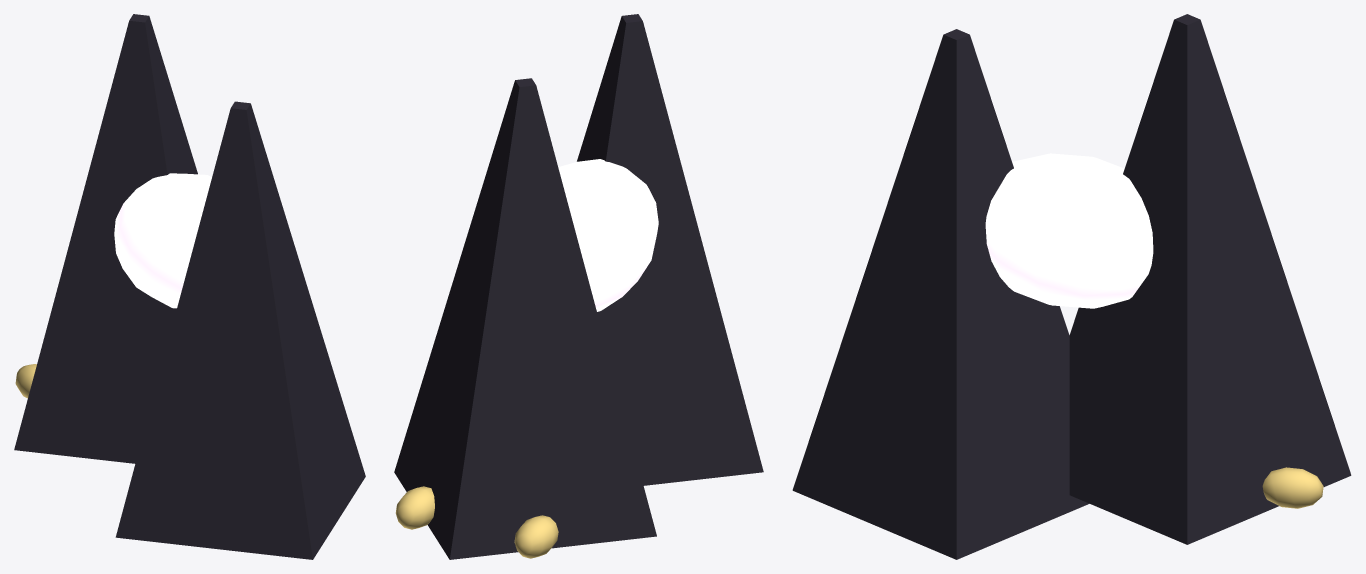
The model's file is SM_Keeper_UmbraCoiled_Coilhead.fbx.
3 renders of one model, left to right at view 1: azimuth 30°, elevation 25°; view 2: azimuth 150°, elevation 25°; view 3: azimuth 270°, elevation 25°, orthographic. The views are drawn at different scales.
Parts seen in each view (by area): view 1: SM_Keeper_UmbraCoiled_Coilhead; view 2: SM_Keeper_UmbraCoiled_Coilhead; view 3: SM_Keeper_UmbraCoiled_Coilhead.
Part boxes in pixels (box(x1,y1,x2,y2)): SM_Keeper_UmbraCoiled_Coilhead: box(14, 14, 365, 559); SM_Keeper_UmbraCoiled_Coilhead: box(394, 14, 763, 559); SM_Keeper_UmbraCoiled_Coilhead: box(792, 14, 1351, 559).
Size of the model in its own units: 1.24 by 1.96 by 2.11.
